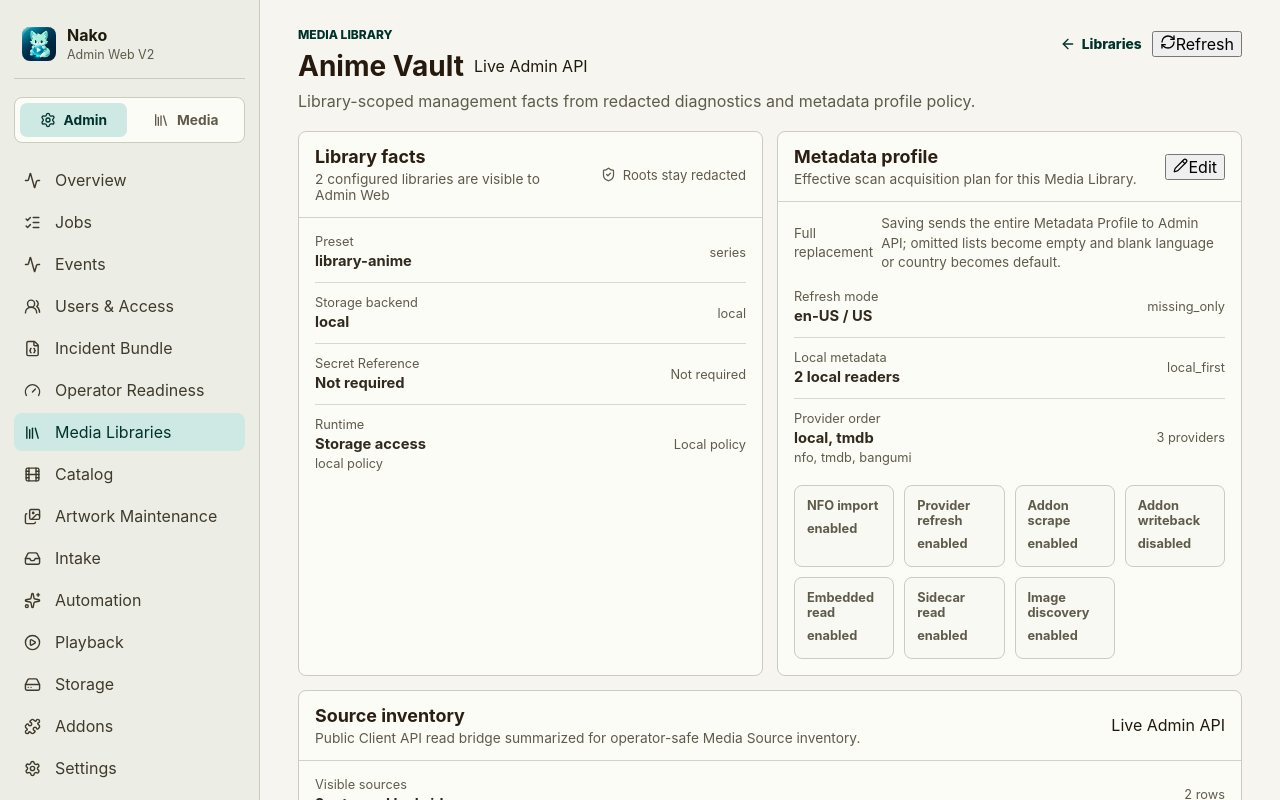
Test: Admin Web V2 route shell › edits Metadata Profile by full replacement and confirms library commands
Expected: the heading "Anime Vault" is shown, [298,50,464,82]
Click the button "Edit".
click(1195, 167)  # box [1166,154,1225,180]
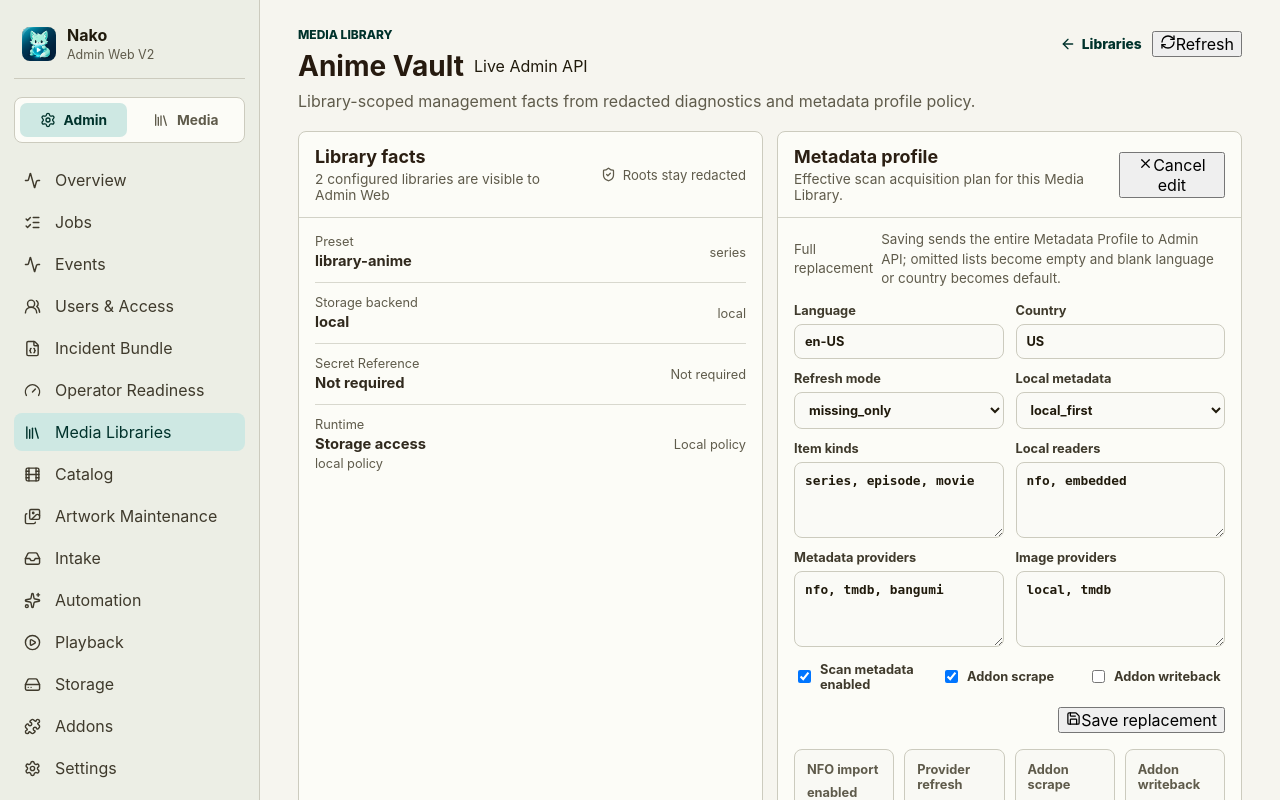
Select "full_refresh" in the dropdown labelled "Refresh mode" at (899, 410), box [794,392,1004,429]
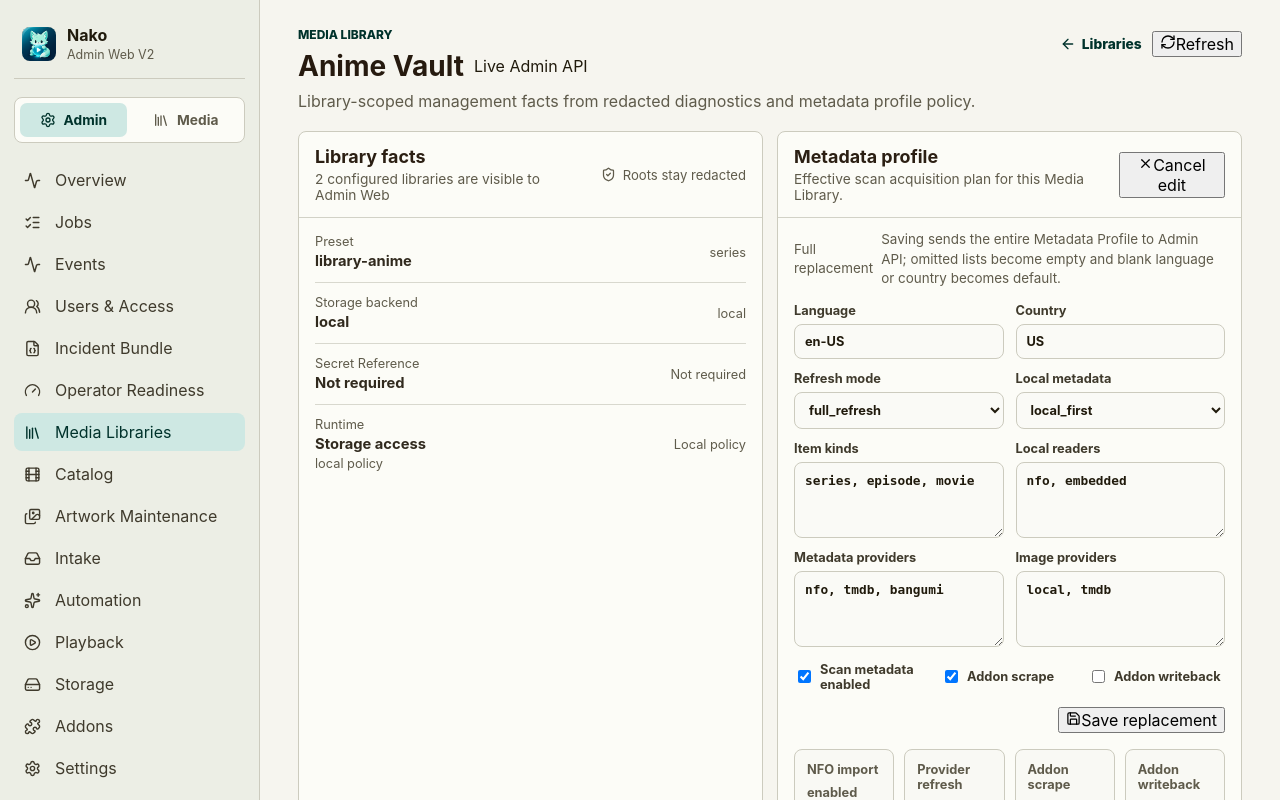
Click the button "Save replacement".
click(1142, 720)  # box [1058,707,1225,733]
(page scrolled)
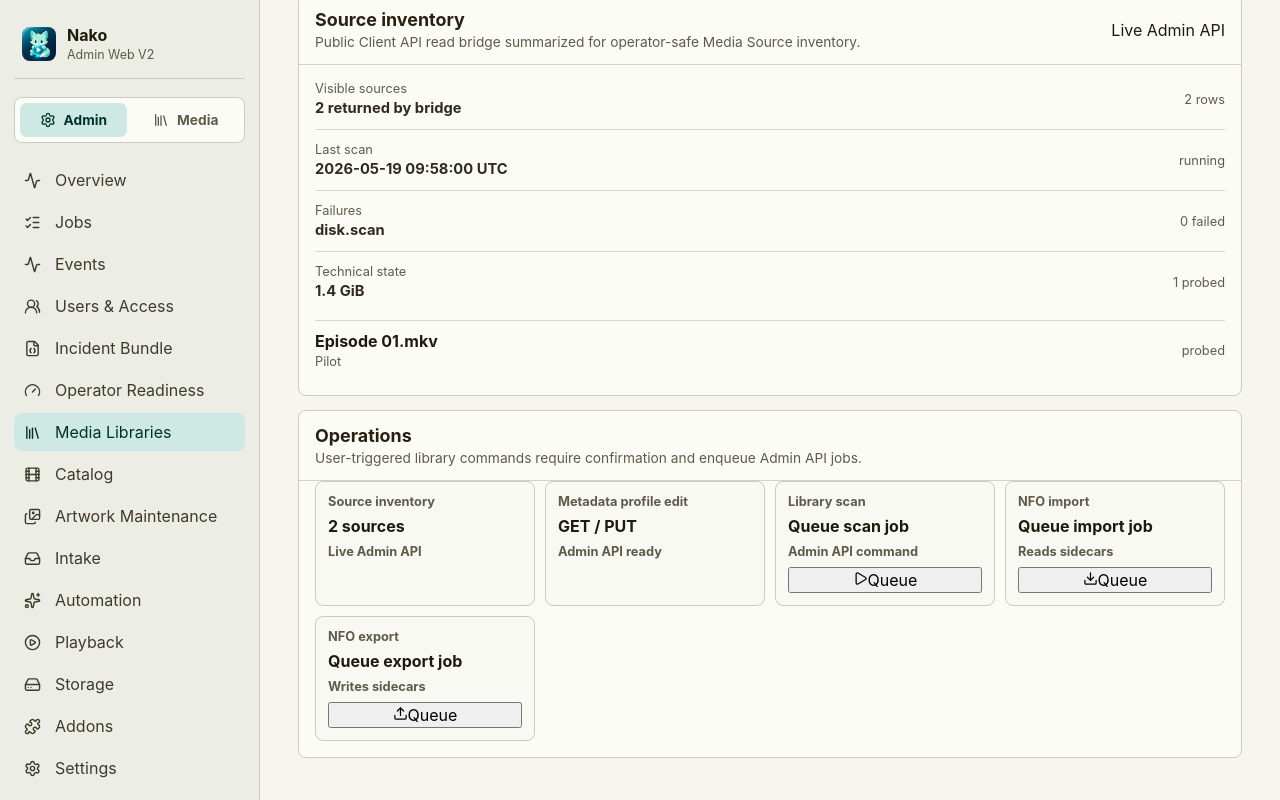
Click the button "Queue" below "Admin API command".
click(885, 580)  # box [788,567,982,593]
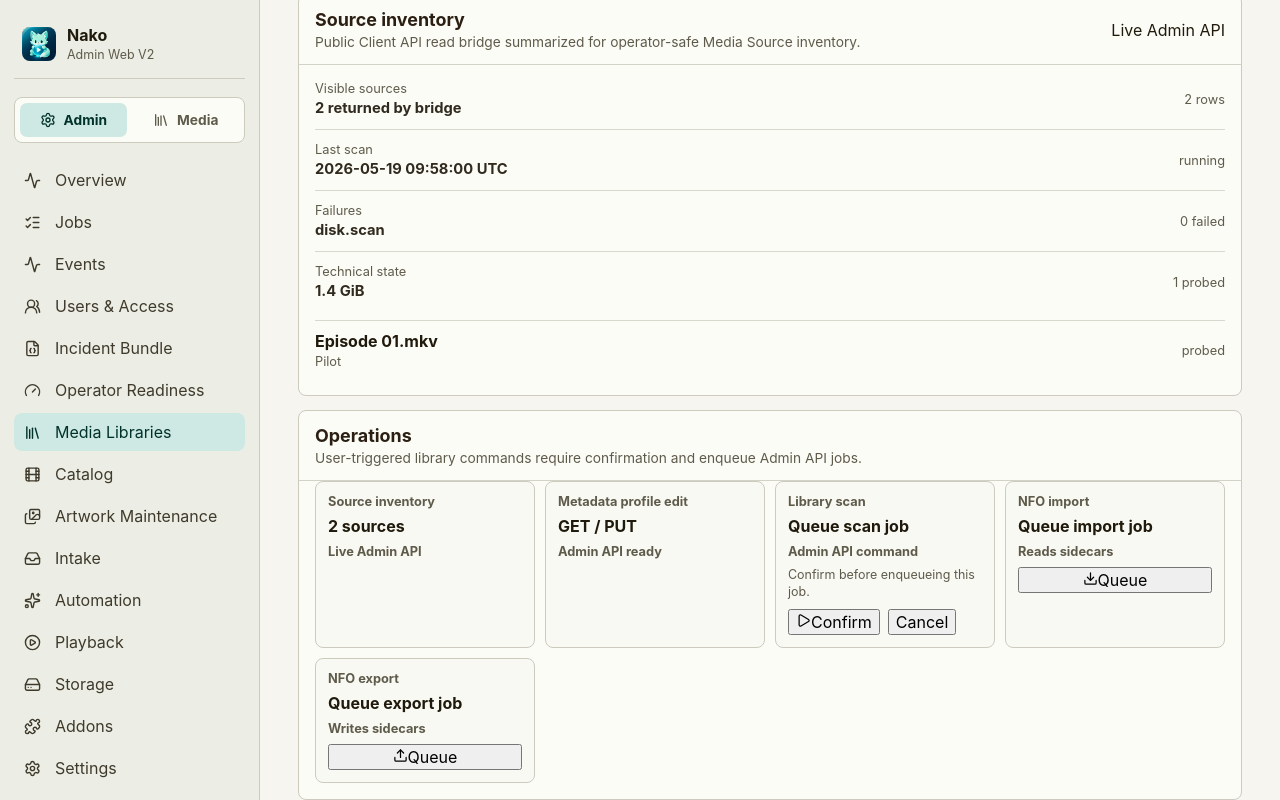
Click the button "Confirm".
click(834, 622)  # box [788,609,880,635]
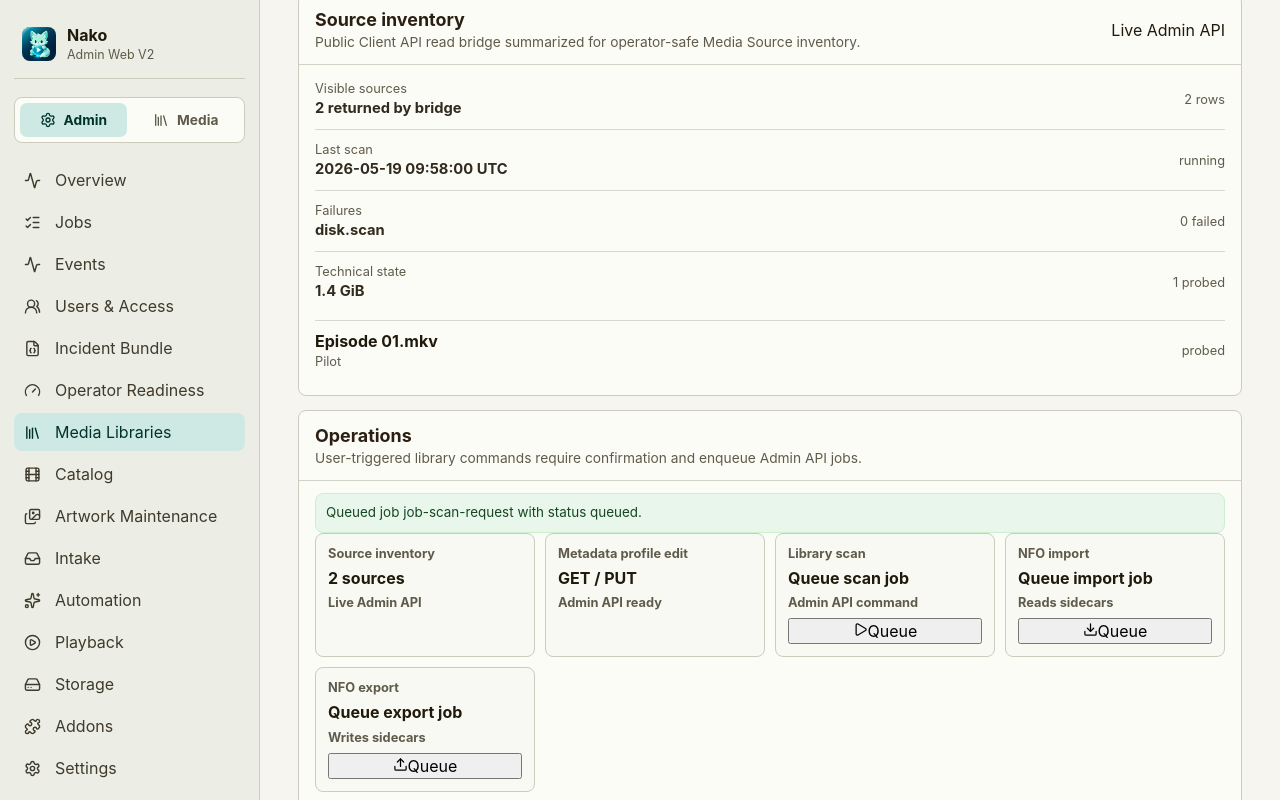
Expected: the text "Queued job job-scan-request with status queued." is shown, [315,493,1225,533]
